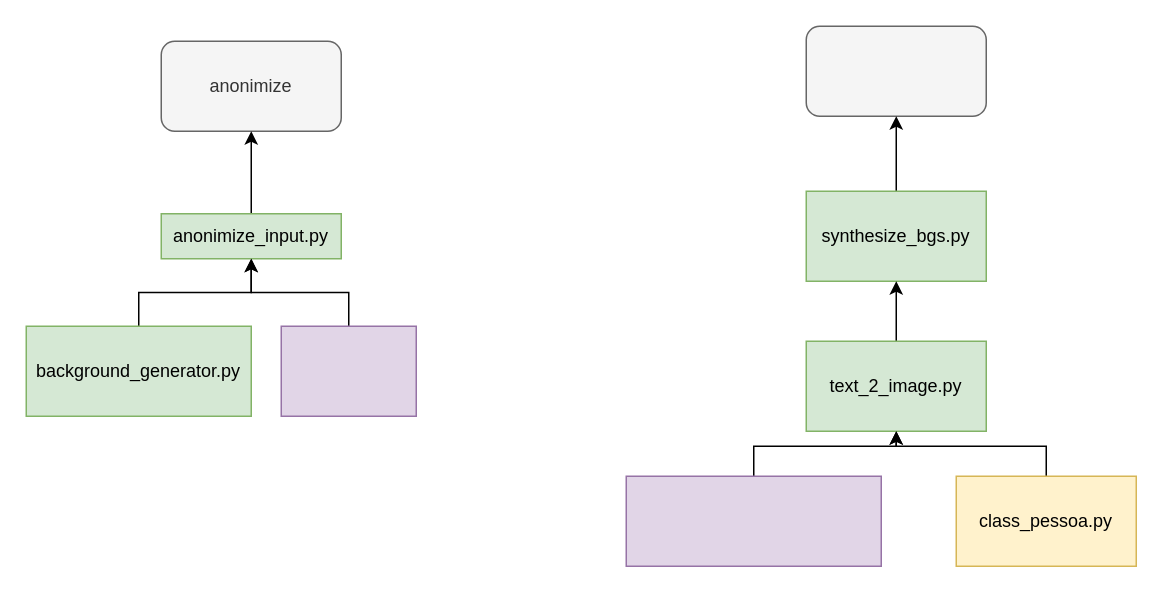
Some shapes in this 1163 by 593 pixel diagram are drawn without their labels. The centre of each missing label's shape, as x and y in pixels:
"find_face.py" goes at point (348, 370).
"images_transformation.py" goes at point (753, 520).
"synth" goes at point (895, 70).
